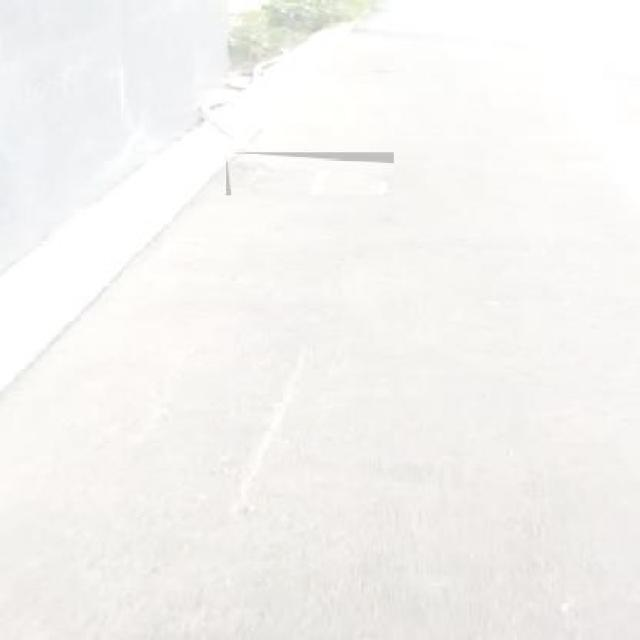Manhole: (226, 152, 394, 195)
